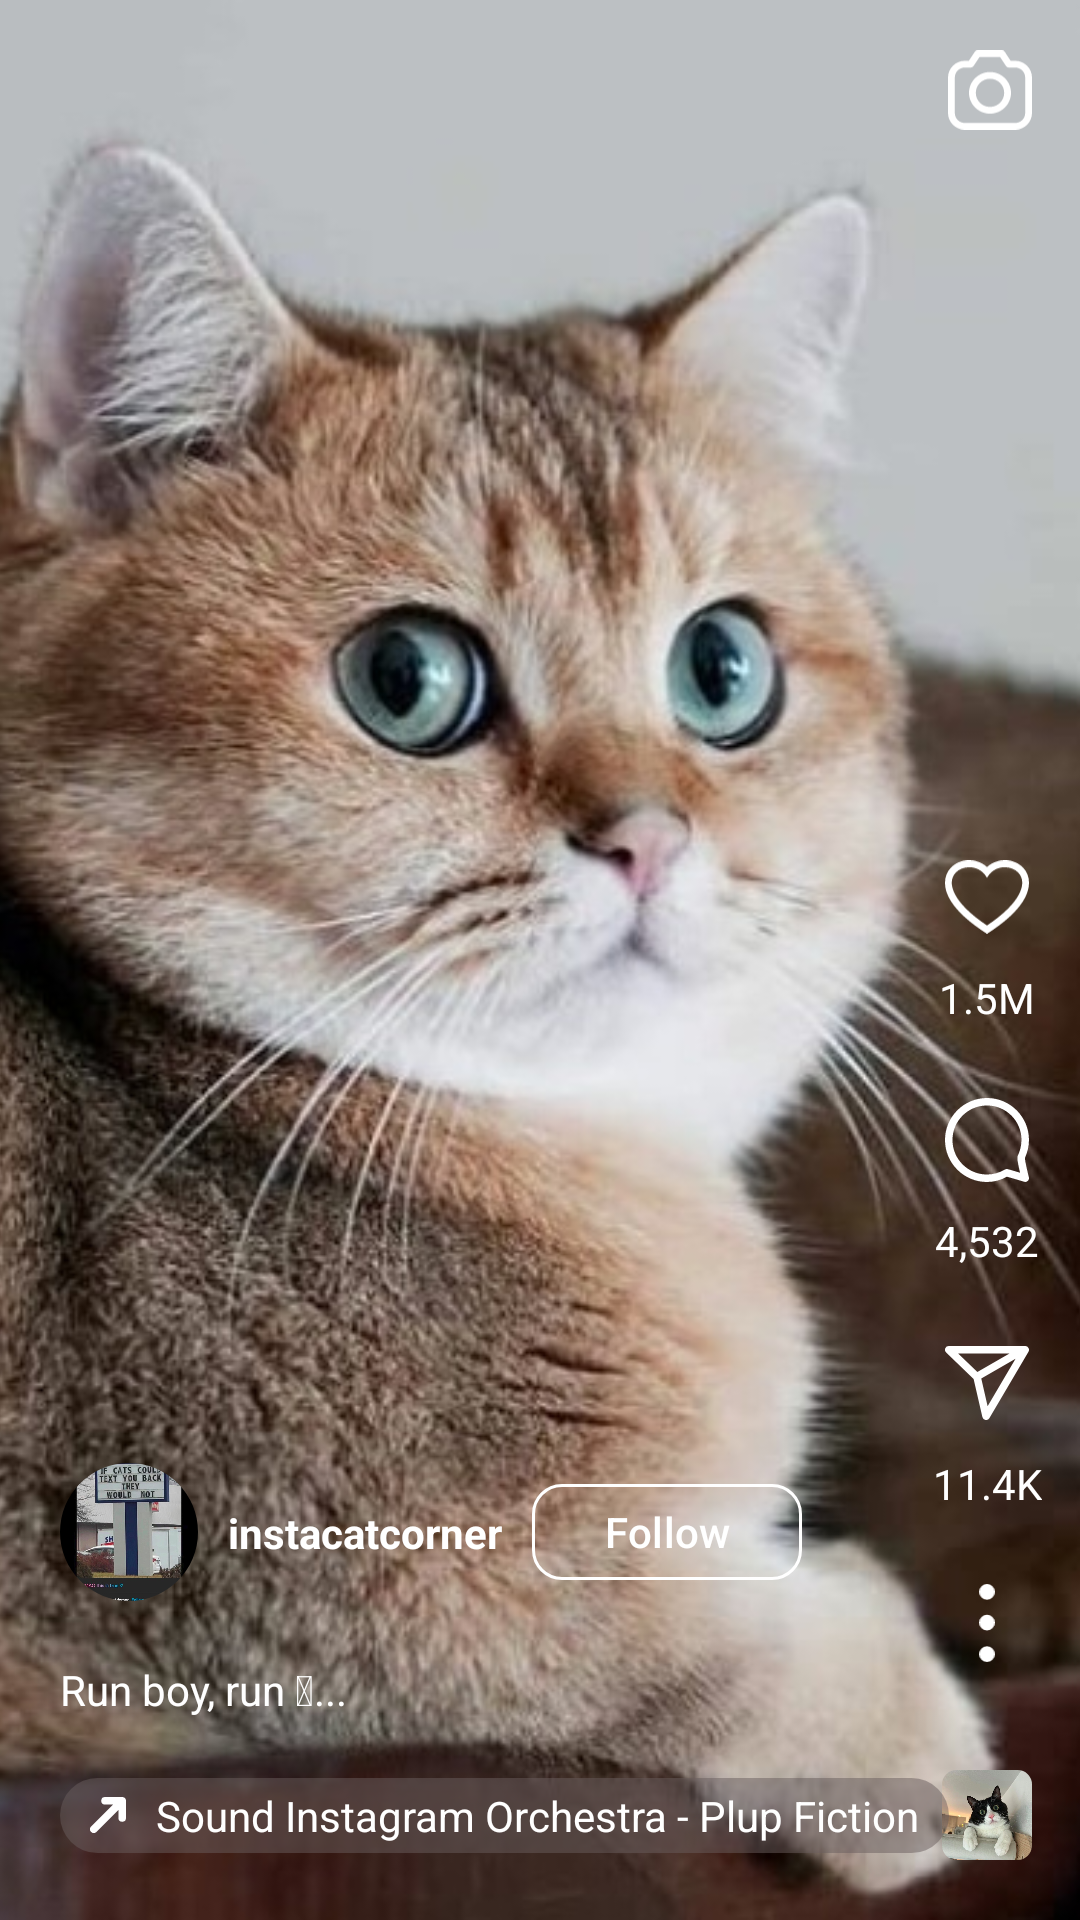

Icon click points for this 1080*1920 phone screenshot, format [x,y]:
capture: [990,90]
comment: [987,1140]
love: [987,894]
more: [971,1623]
share: [987,1383]
top right arrow: [108,1815]
